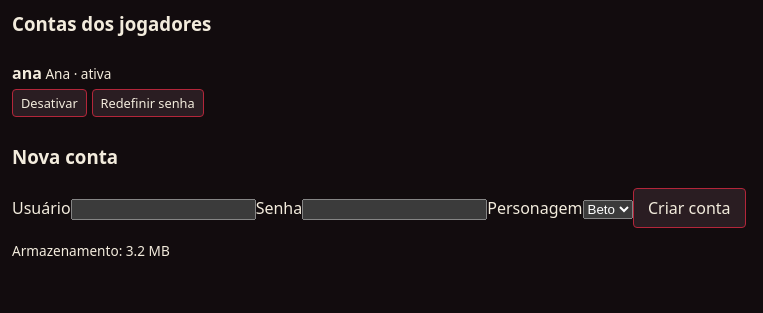
it: AccountsPanel: robustez › redefinir senha com sucesso mostra confirmação
Click the button with aria-label "Redefinir senha de ana".
click(148, 103)  # box top-left (92, 89), bottom-right (204, 117)
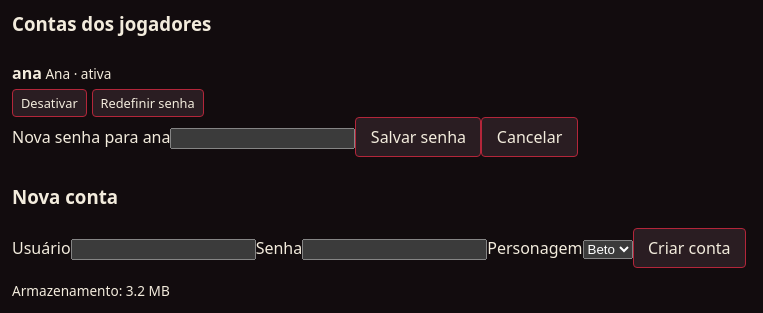
Type "novasenha" into the password field labelled "Nova senha para ana".
click(263, 139); type("novasenha")  # box top-left (170, 128), bottom-right (356, 149)
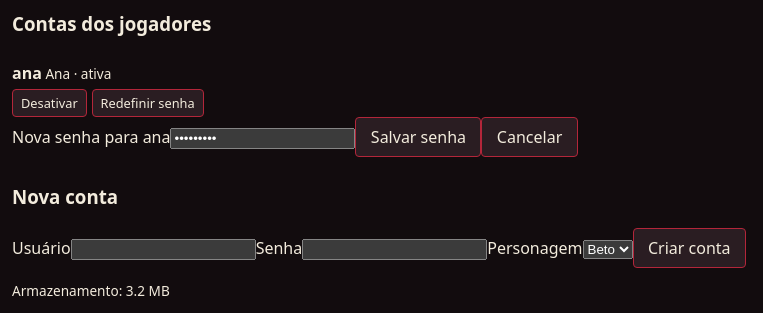
Click the button "Salvar senha".
click(418, 137)  # box top-left (356, 117), bottom-right (482, 157)
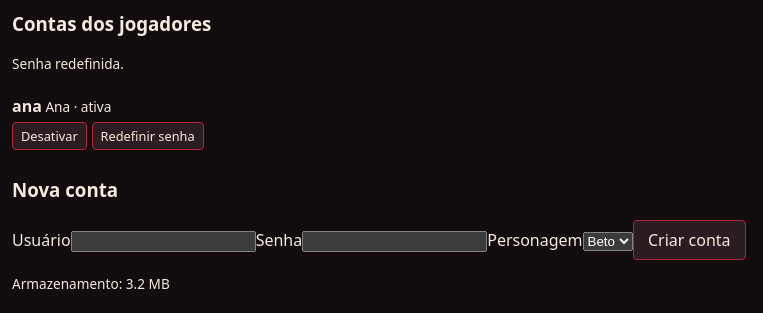
Expected: the message reads "Senha redefinida.", top-left (12, 54), bottom-right (124, 73)
